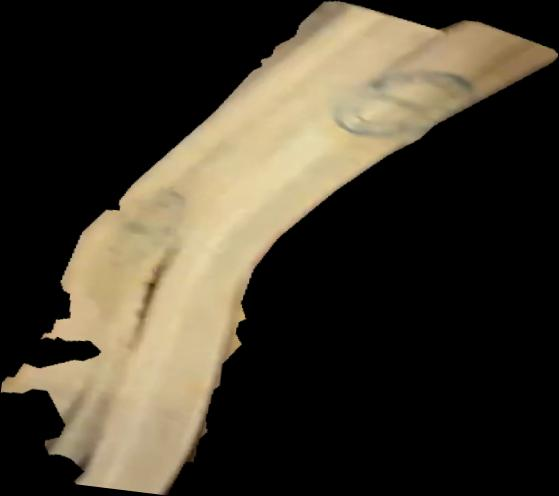backward: (1, 1, 559, 496)
